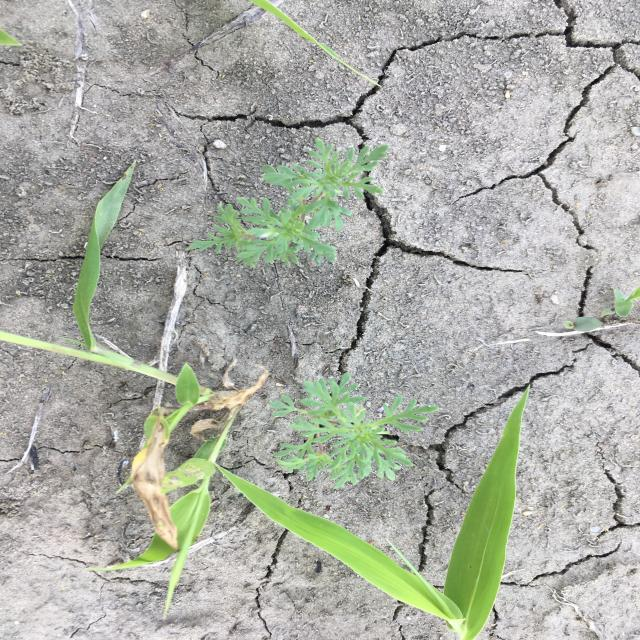Eclipta: (266, 371, 442, 490)
Ragweed: (182, 134, 392, 270)
